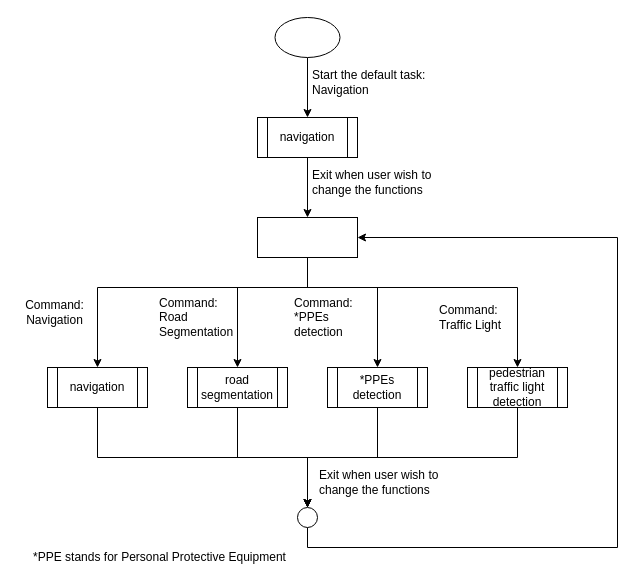
The diagram is 643 pixels wide and 585 high, and some of its shapes have lost their labels. The shapes that lost their labels are listed below. From the top down, each one's centre as x and y in pixels, then its label:
At point (307, 37): "start".
At point (307, 237): "Get Command".
